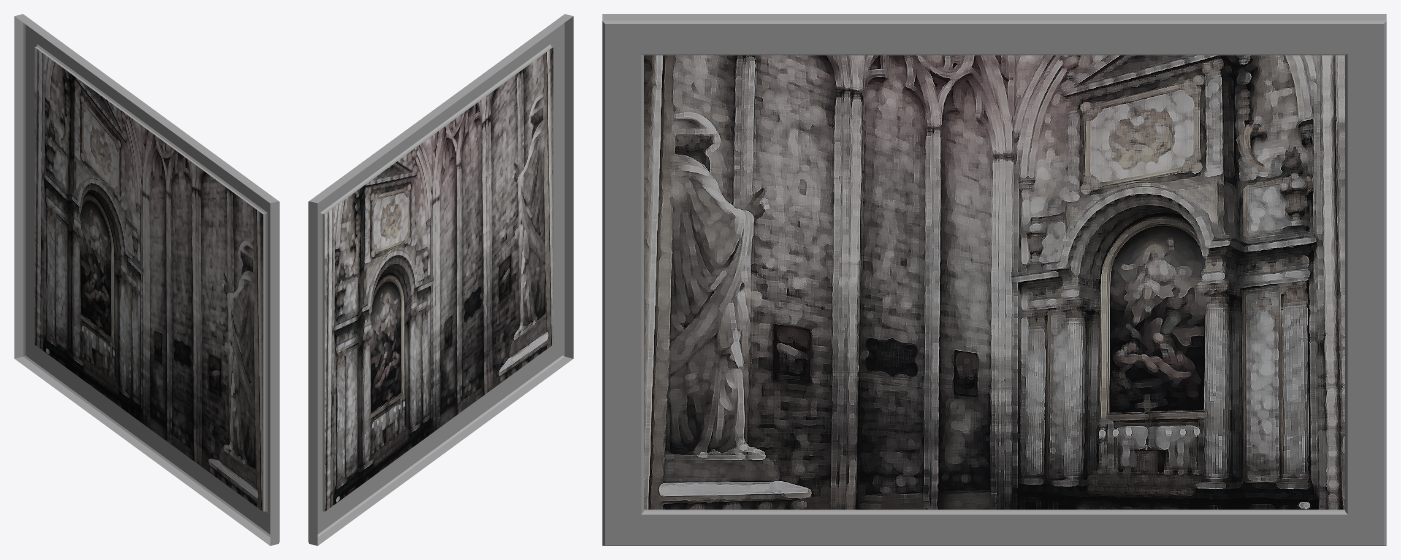
The model's file is Painting 4.fbx.
3 renders of one model, left to right at view 1: azimuth 30°, elevation 25°; view 2: azimuth 150°, elevation 25°; view 3: azimuth 270°, elevation 25°, orthographic. The views are drawn at different scales.
Visible parts, largest first — view 1: pCube21; view 2: pCube21; view 3: pCube21.
Part boxes in pixels (x1,y1,x2,y2): pCube21: (14, 14, 279, 545); pCube21: (308, 14, 573, 545); pCube21: (602, 14, 1386, 545).
Bounding box in the file's own units: 0.0232 × 0.739 × 1.
